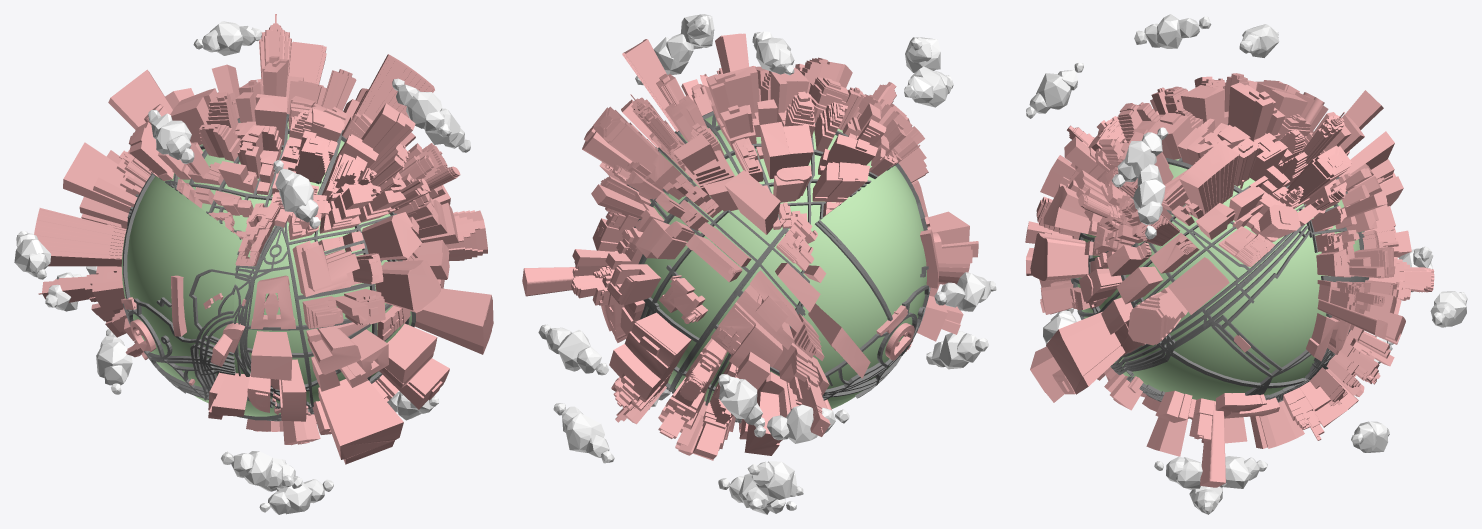
The model's file is sample_02.obj.
3 renders of one model, left to right at view 1: azimuth 30°, elevation 25°; view 2: azimuth 150°, elevation 25°; view 3: azimuth 270°, elevation 25°, orthographic. The views are drawn at different scales.
Visible parts, largest first — view 1: NODE_71, NODE_65, NODE_74, NODE_13, NODE_62, NODE_72, NODE_60, NODE_9, NODE_59, NODE_68, NODE_15, NODE_28 (+11 smaller); view 2: NODE_74, NODE_65, NODE_13, NODE_11, NODE_59, NODE_71, NODE_75, NODE_60, NODE_23, NODE_19, NODE_17, NODE_62 (+14 smaller); view 3: NODE_65, NODE_74, NODE_62, NODE_71, NODE_10, NODE_68, NODE_63, NODE_22, NODE_28, NODE_18, NODE_15, NODE_23 (+10 smaller).
Part boxes in pixels (x1,y1,x2,y2): NODE_71: (235,166,493,464); NODE_65: (128,14,434,239); NODE_74: (34,69,260,357); NODE_13: (121,176,240,387); NODE_62: (352,88,492,354); NODE_72: (232,212,415,408); NODE_60: (123,173,235,400); NODE_9: (233,214,411,403); NODE_59: (121,275,249,419); NODE_68: (246,374,398,445); NODE_15: (392,78,451,137); NODE_28: (273,160,320,228); NODE_74: (522,161,870,459); NODE_65: (593,33,920,229); NODE_13: (805,165,926,401); NODE_11: (644,194,810,402); NODE_59: (824,216,978,410); NODE_71: (754,62,969,296); NODE_75: (626,197,809,405); NODE_60: (815,192,930,400); NODE_23: (538,324,608,375); NODE_19: (553,403,614,463); NODE_17: (754,404,849,443); NODE_62: (582,74,708,184); NODE_65: (1097,73,1364,229); NODE_74: (1303,90,1434,405); NODE_62: (1049,185,1300,394); NODE_71: (1025,116,1130,402); NODE_10: (1116,215,1323,401); NODE_68: (1097,367,1364,487); NODE_63: (1114,215,1311,395); NODE_22: (1133,156,1165,239); NODE_28: (1026,62,1083,118); NODE_18: (1134,14,1211,48); NODE_15: (1111,127,1168,187); NODE_23: (1430,291,1467,327).
Size of the model in its own units: 132 by 148 by 128.
